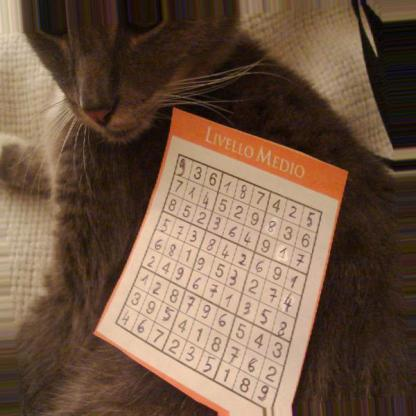sudoku: (112, 149, 327, 412)
